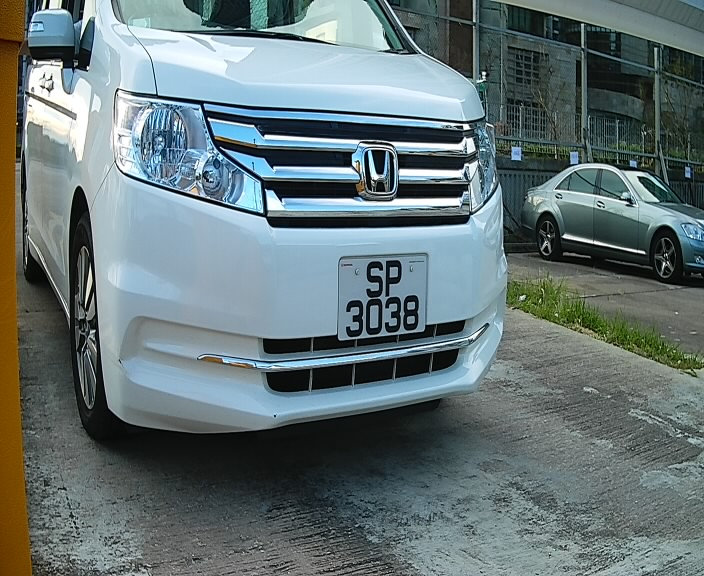Car: (18, 2, 535, 471)
License Plate: (330, 253, 440, 350)
